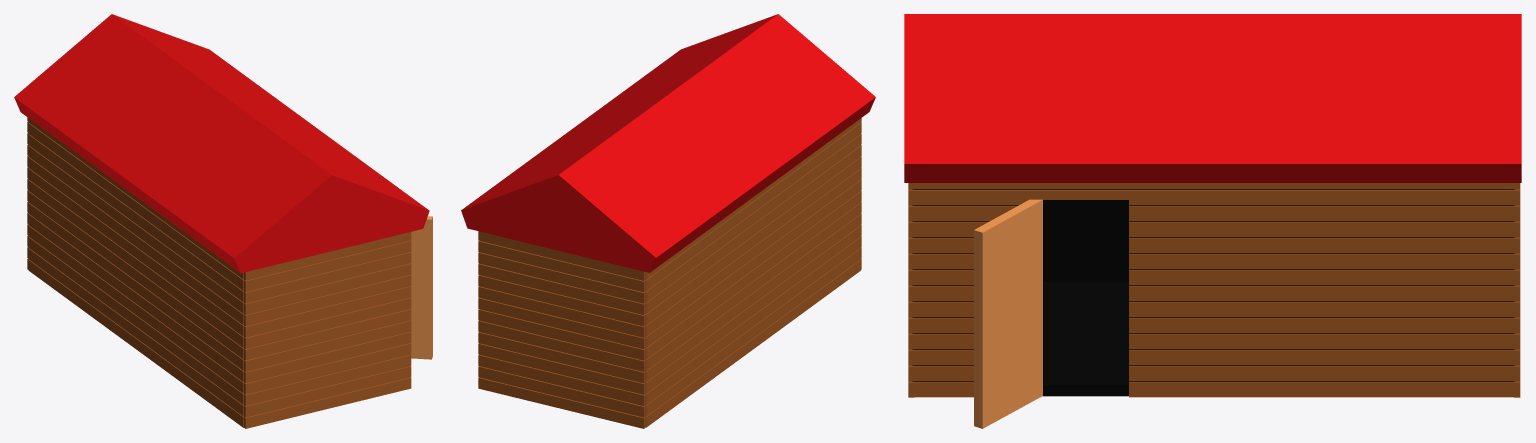
Rendered from GranjaExterior.fbx.
3 views of the same model, side by side, from view 1: azimuth 30°, elevation 25°; view 2: azimuth 150°, elevation 25°; view 3: azimuth 270°, elevation 25° (orthographic). The views are drawn at different scales.
Parts seen in each view (by area): view 1: Cylinder, Cube.005, Cube.007, Cube.017; view 2: Cylinder, Cube.005, Cube.008; view 3: Cylinder, Cube.006, Cube, Cube.017, Cube.008, Cube.007.
Boxes of the visible parts, left/top/right/bottom form: Cylinder: left=14, top=14, right=429, bottom=273; Cube.005: left=28, top=118, right=243, bottom=427; Cube.007: left=244, top=232, right=411, bottom=428; Cube.017: left=411, top=216, right=432, bottom=359; Cylinder: left=461, top=14, right=875, bottom=272; Cube.005: left=645, top=119, right=860, bottom=427; Cube.008: left=478, top=231, right=645, bottom=428; Cylinder: left=904, top=14, right=1521, bottom=182; Cube.006: left=913, top=183, right=1513, bottom=397; Cube: left=912, top=189, right=1514, bottom=396; Cube.017: left=974, top=199, right=1042, bottom=428; Cube.008: left=1514, top=183, right=1520, bottom=397; Cube.007: left=908, top=183, right=914, bottom=397.
Size of the model in its own units: 276 by 273 by 465.
